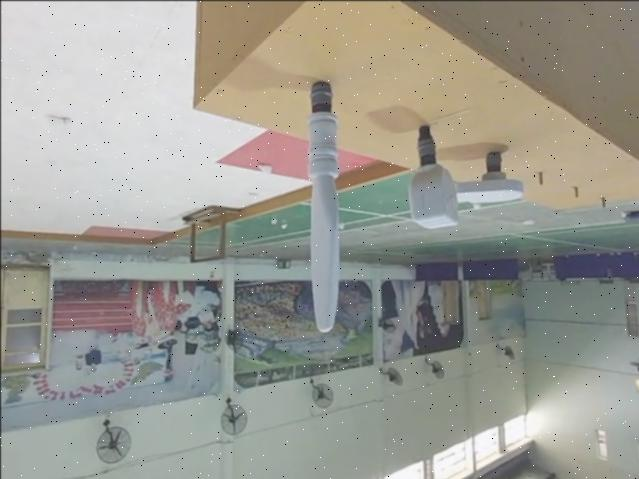Fist: (406, 121, 460, 229)
Hand: (454, 152, 523, 204)
Sph: (306, 72, 347, 331)
